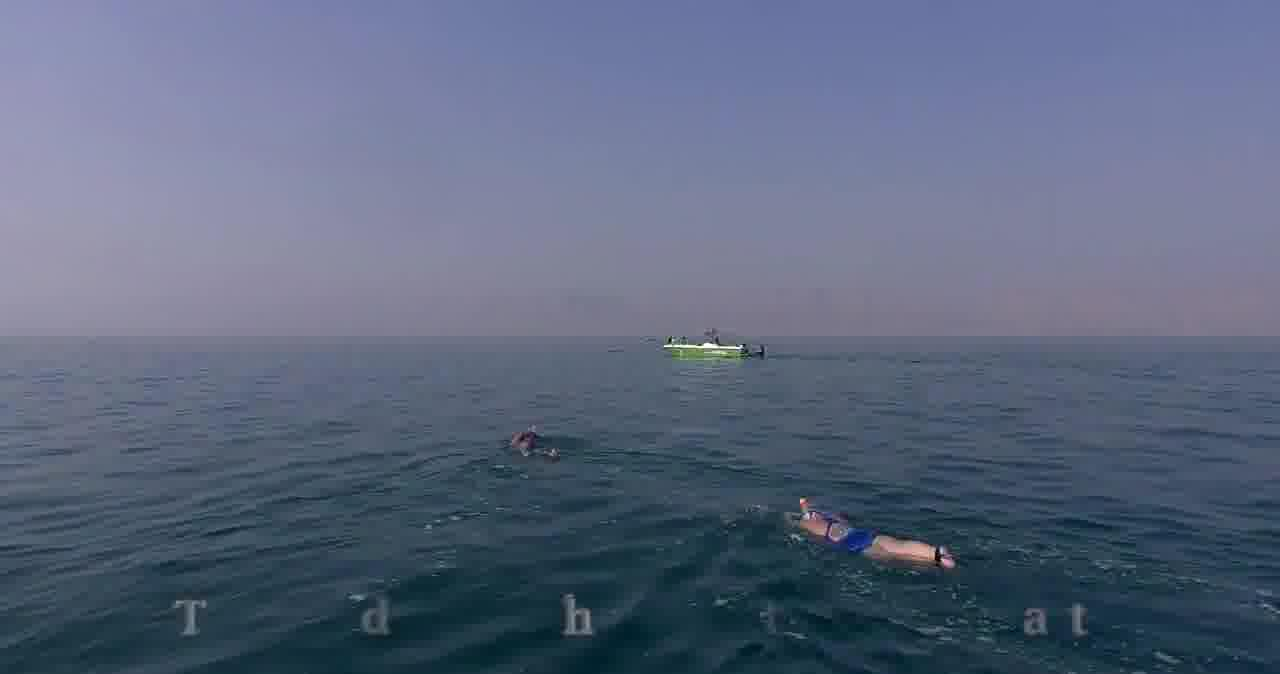human: (784, 490, 973, 572), (504, 418, 569, 462)
